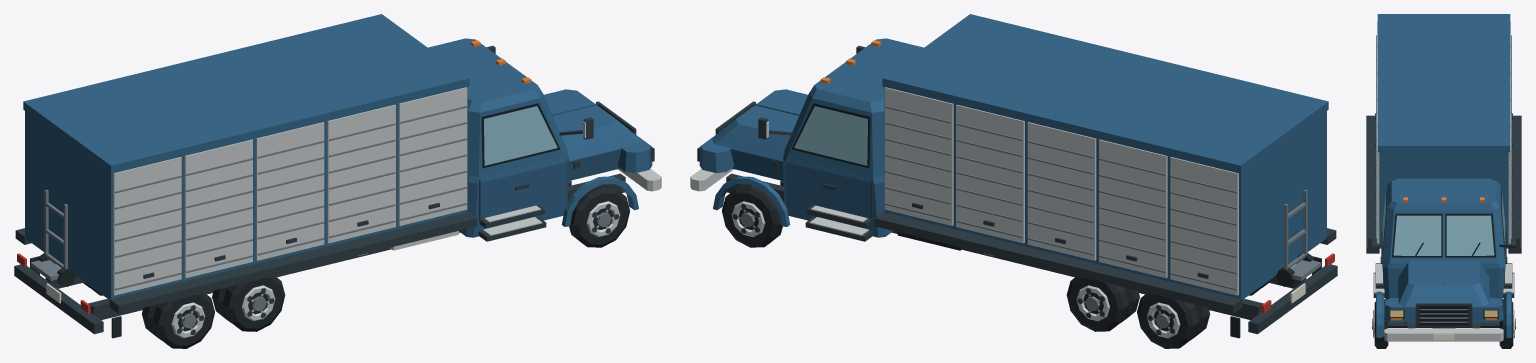
Rendered from b15_beverage_delivery_truck.glb.
3 renders of one model, left to right at view 1: azimuth 30°, elevation 25°; view 2: azimuth 150°, elevation 25°; view 3: azimuth 270°, elevation 25°, orthographic. The views are drawn at different scales.
Parts seen in each view (by area): view 1: b15_beverage_delivery_truck; view 2: b15_beverage_delivery_truck; view 3: b15_beverage_delivery_truck.
Boxes of the visible parts, <box> form: b15_beverage_delivery_truck: <box>14,14,661,348</box>; b15_beverage_delivery_truck: <box>690,14,1337,348</box>; b15_beverage_delivery_truck: <box>1366,14,1521,348</box>.
Size of the model in its own units: 9.83 by 3.23 by 3.
